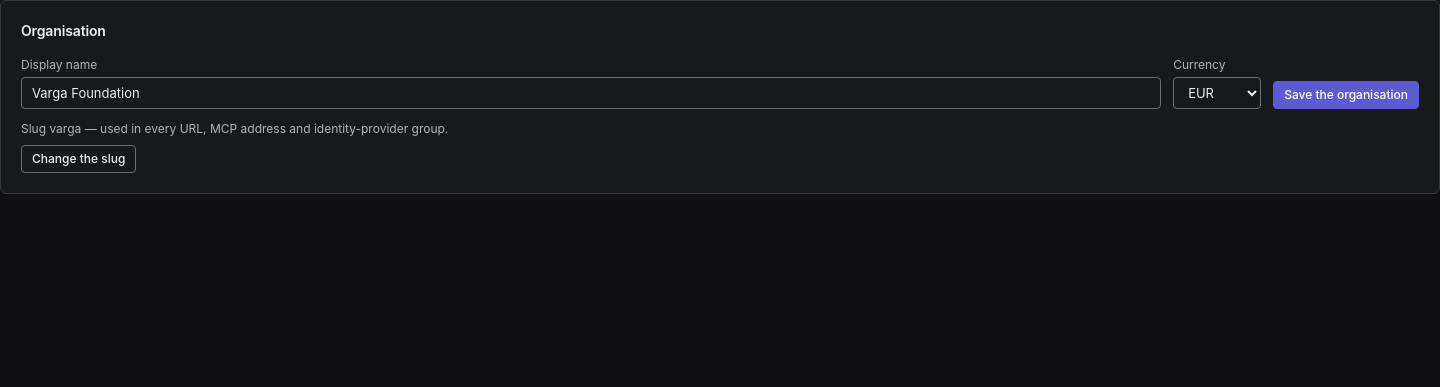
Test: the Organisation card › for a platform administrator › shows a taken slug as a 409 inline and stays on the organisation
Click the button "Change the slug": (79, 159) [21,145,136,173]
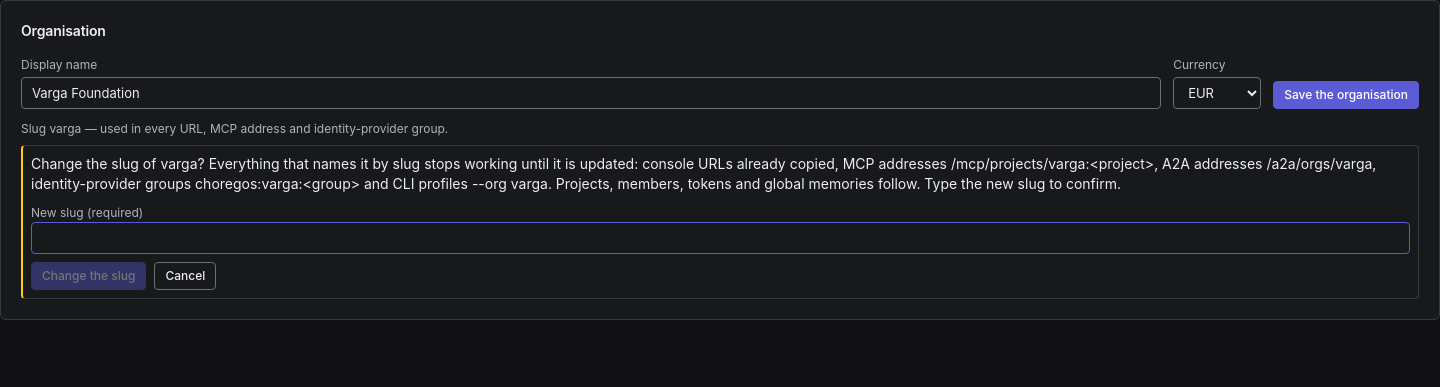
In the field labelled "New slug (required)": (720, 238) [31,222,1410,254], type "taken"
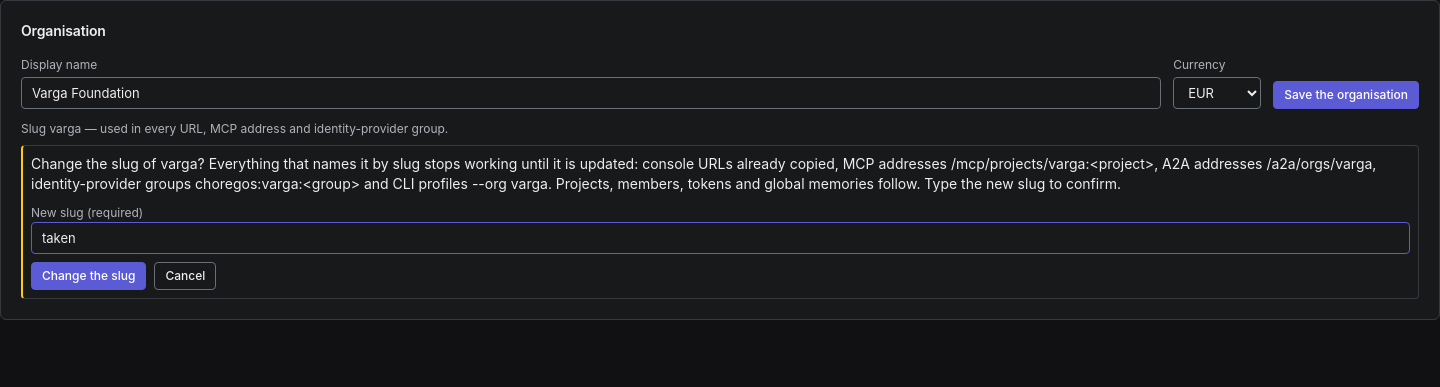
Click the button "Change the slug": (89, 276) [31,262,146,290]
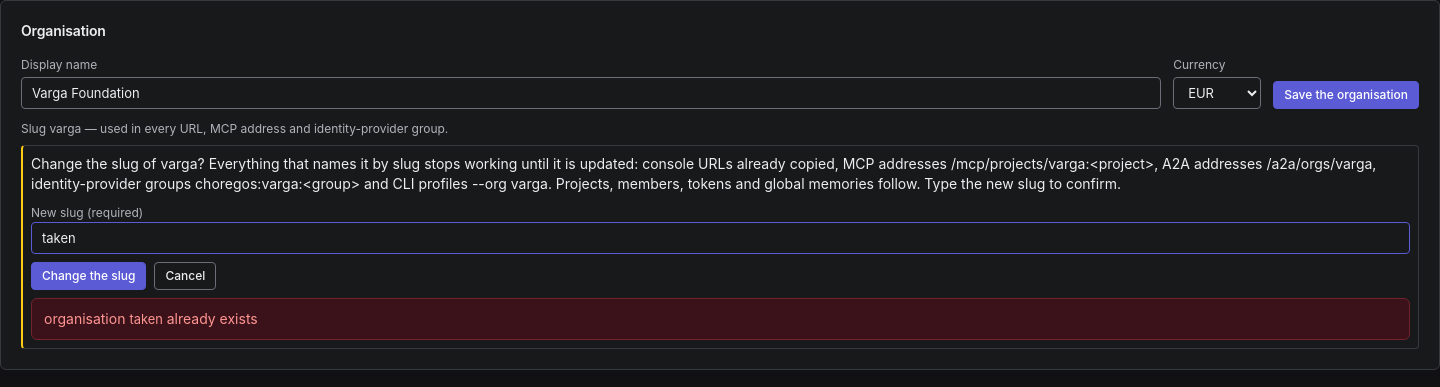
Check: the text "already exists" is shown, box [163,310,258,327]
